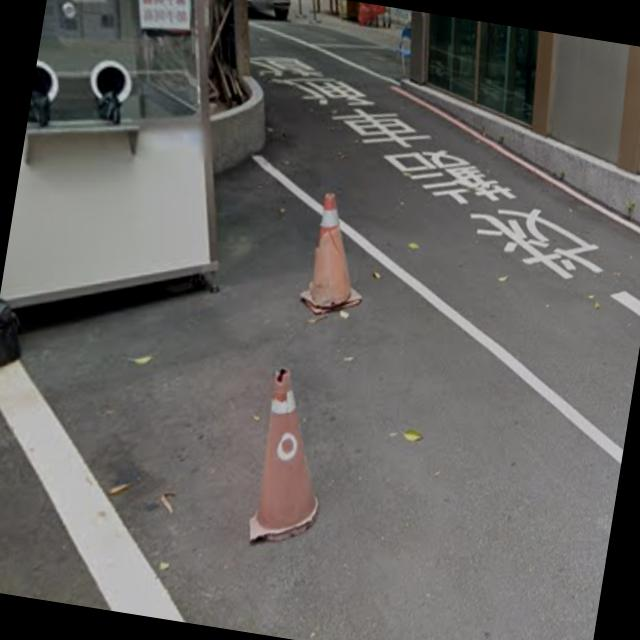cone: (249, 365, 329, 546), (302, 183, 366, 314)
